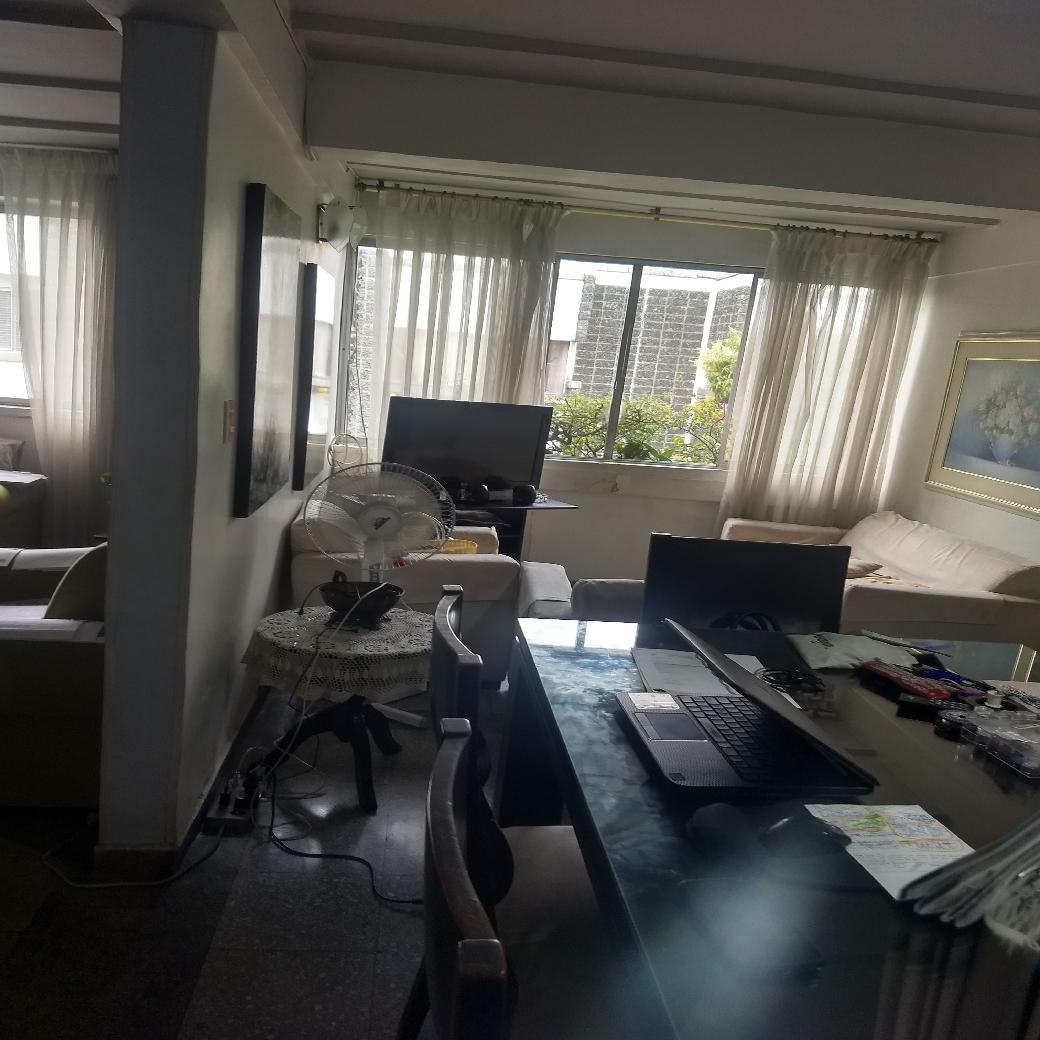laptop: (609, 623, 886, 811)
tv: (391, 392, 553, 492)
ventilador: (305, 457, 458, 583)
